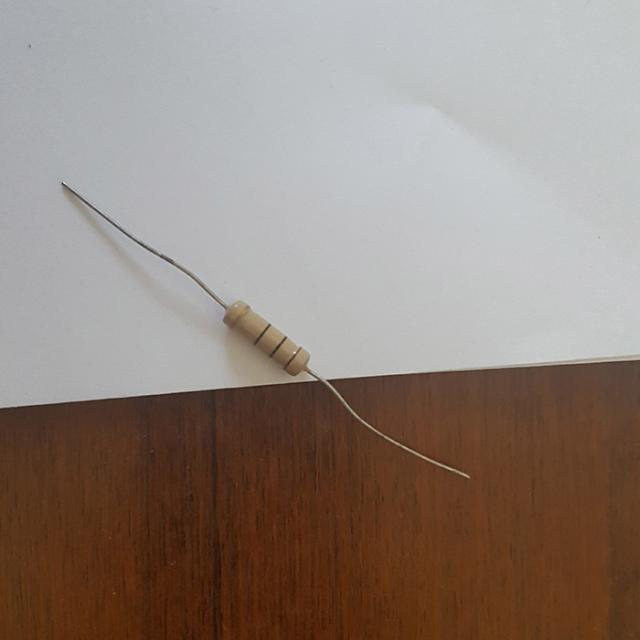black: (251, 322, 270, 345), (269, 336, 287, 357)
brown: (283, 346, 301, 368)
gold: (231, 305, 251, 327)
resistor: (213, 291, 321, 391)
